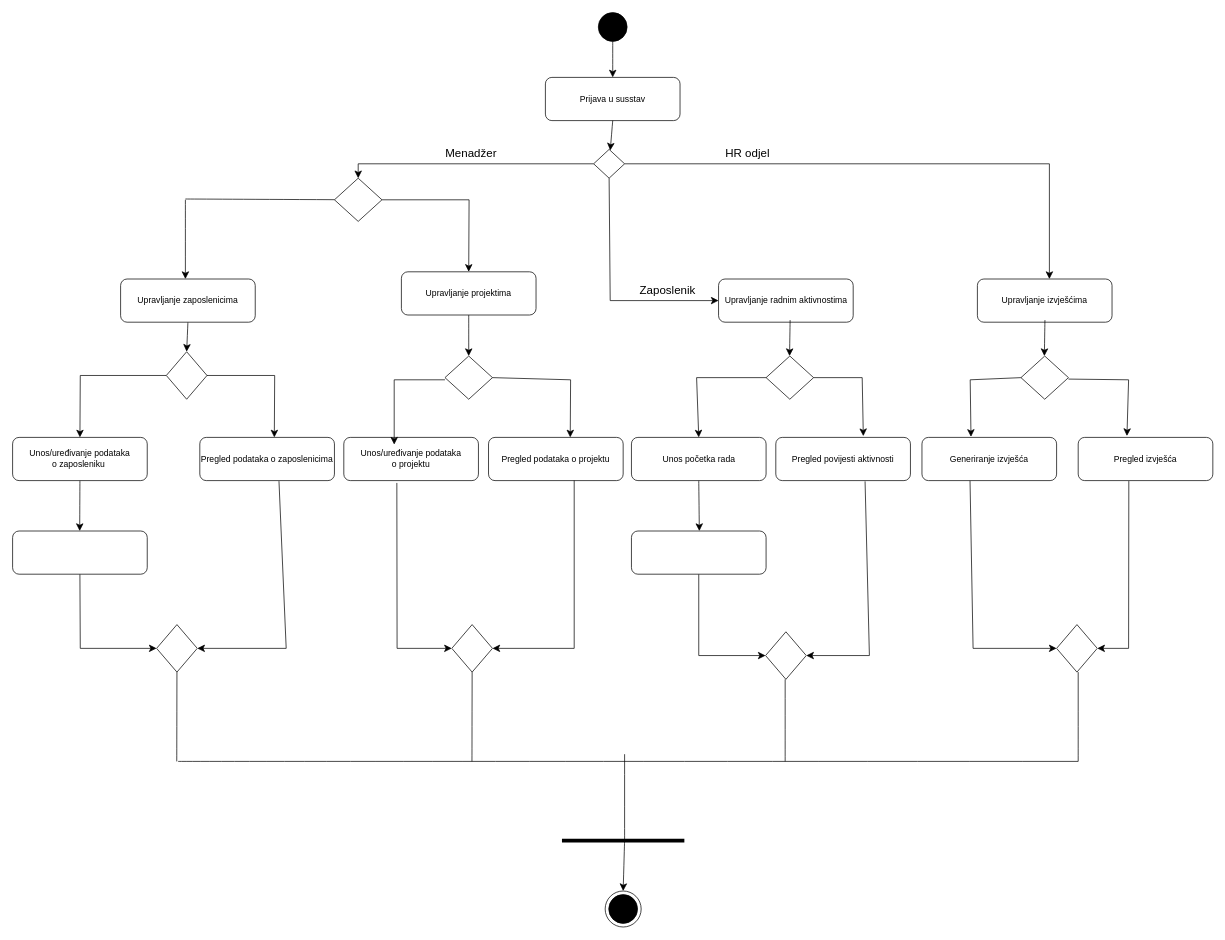
The diagram is 1225 pixels wide and 940 high, and some of its shapes have lost their labels. Here are the shapes that lost their labels. From the top down, the box of each, then its label:
(12, 530, 147, 574): Odabir tima
(631, 530, 766, 574): Unos kraja rada
